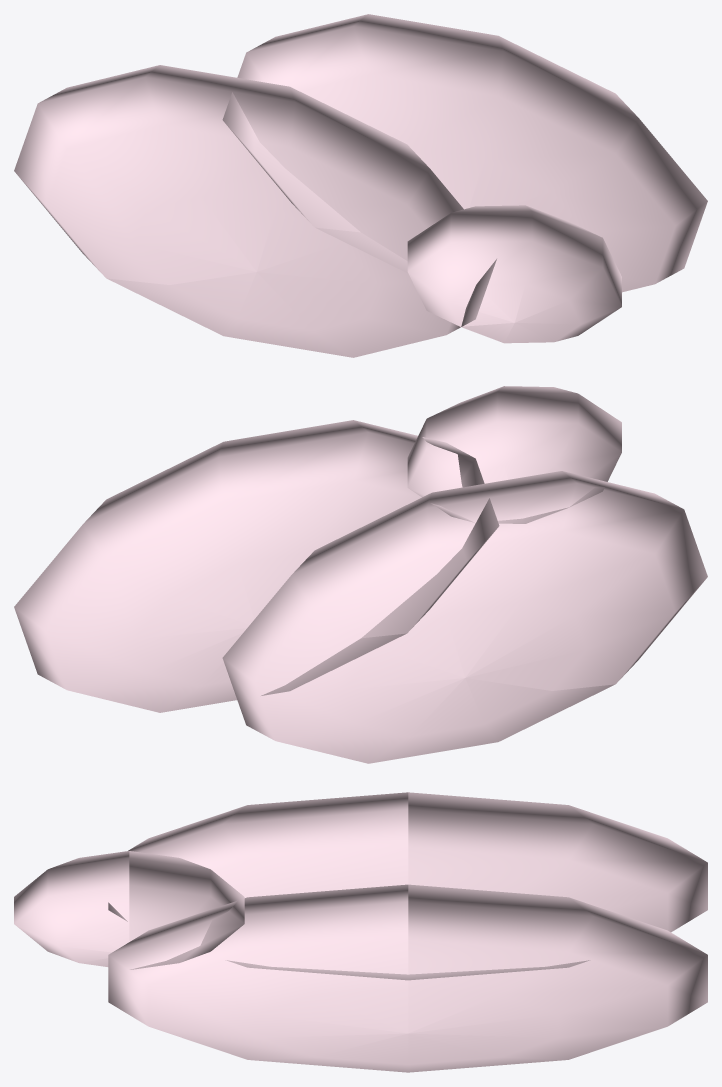
The model's file is fx_petal_sakura.glb.
3 renders of one model, top to bottom at view 1: azimuth 30°, elevation 25°; view 2: azimuth 150°, elevation 25°; view 3: azimuth 270°, elevation 25°, orthographic. The views are drawn at different scales.
Visible parts, largest first — view 1: chinchilla; view 2: chinchilla; view 3: chinchilla.
Boxes of the visible parts, x1,y1,x2,y2 form: chinchilla: [14, 14, 707, 357]; chinchilla: [14, 386, 707, 763]; chinchilla: [14, 792, 707, 1072].
Size of the model in its own units: 0.096 by 0.022 by 0.1145.
